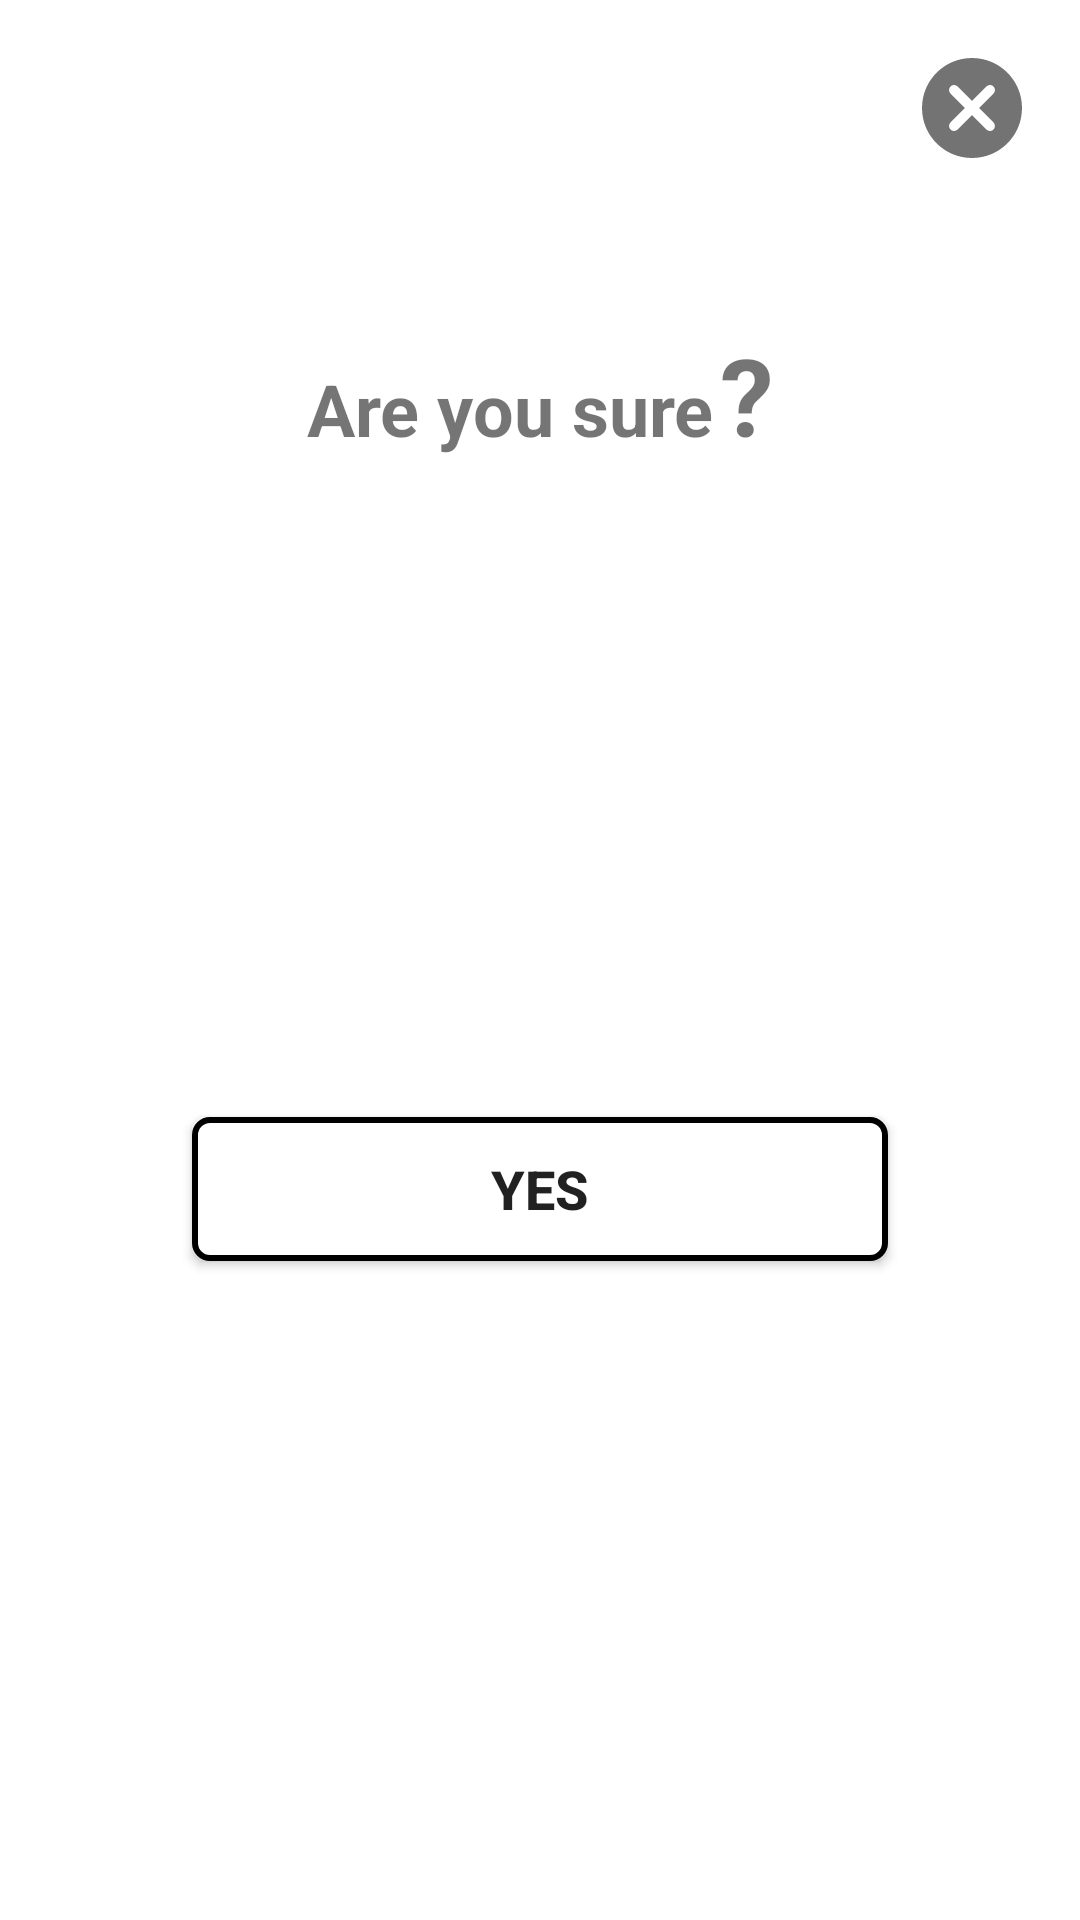

Where to tap for icons on this 1080 x 1920 app screen, as point (x, y):
close: point (972, 108)
